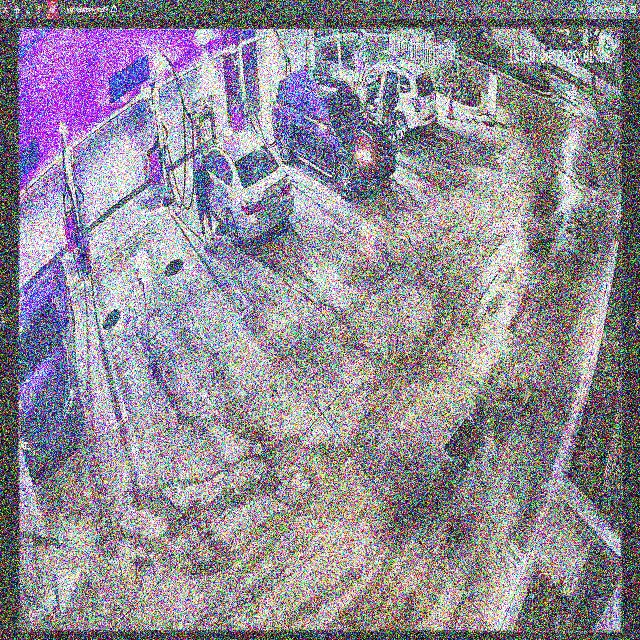Car: (275, 65, 396, 201), (194, 127, 295, 245)
